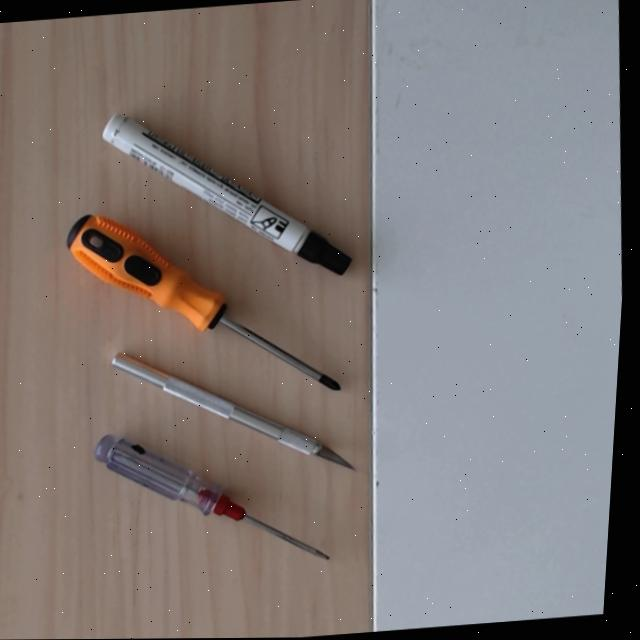Cutter-Kecil: (104, 344, 362, 476)
Marker-Pen: (94, 106, 354, 283)
Obeng-Besar: (54, 200, 351, 421)
Obeng-Kecil: (88, 428, 337, 572)
